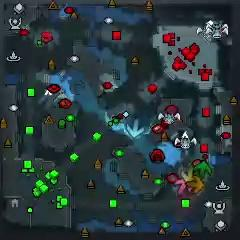x1: (174, 176, 193, 196)
x2: (181, 166, 194, 181)
x3: (125, 118, 146, 139)
x4: (194, 160, 212, 179)
x5: (187, 176, 204, 194)
